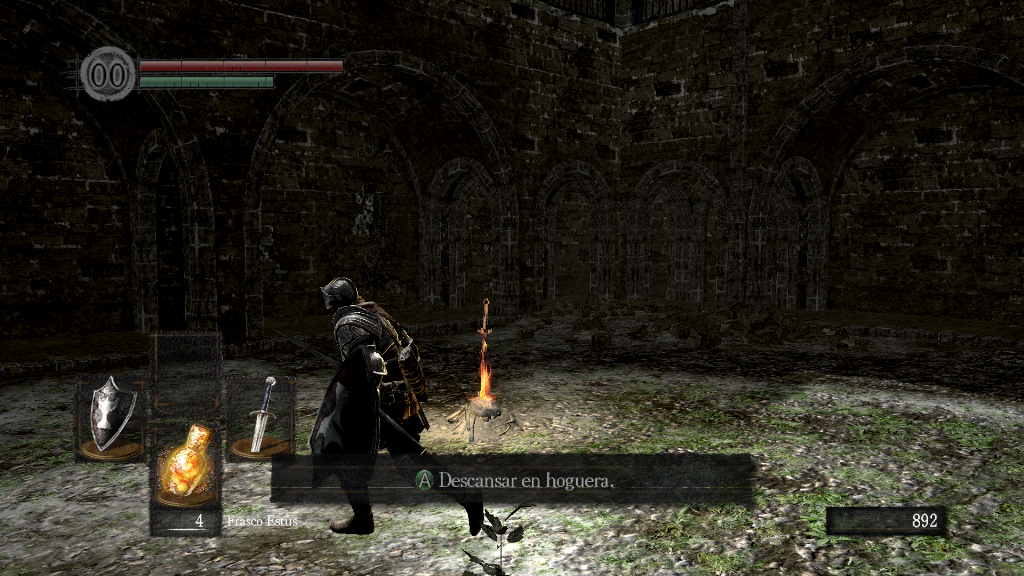bonfire: (441, 302, 543, 432)
dialogBox: (271, 453, 754, 507)
health: (138, 58, 343, 71)
humanity: (80, 45, 136, 102)
player: (267, 278, 490, 540)
souls: (825, 506, 945, 536)
stamina: (138, 74, 274, 88)
